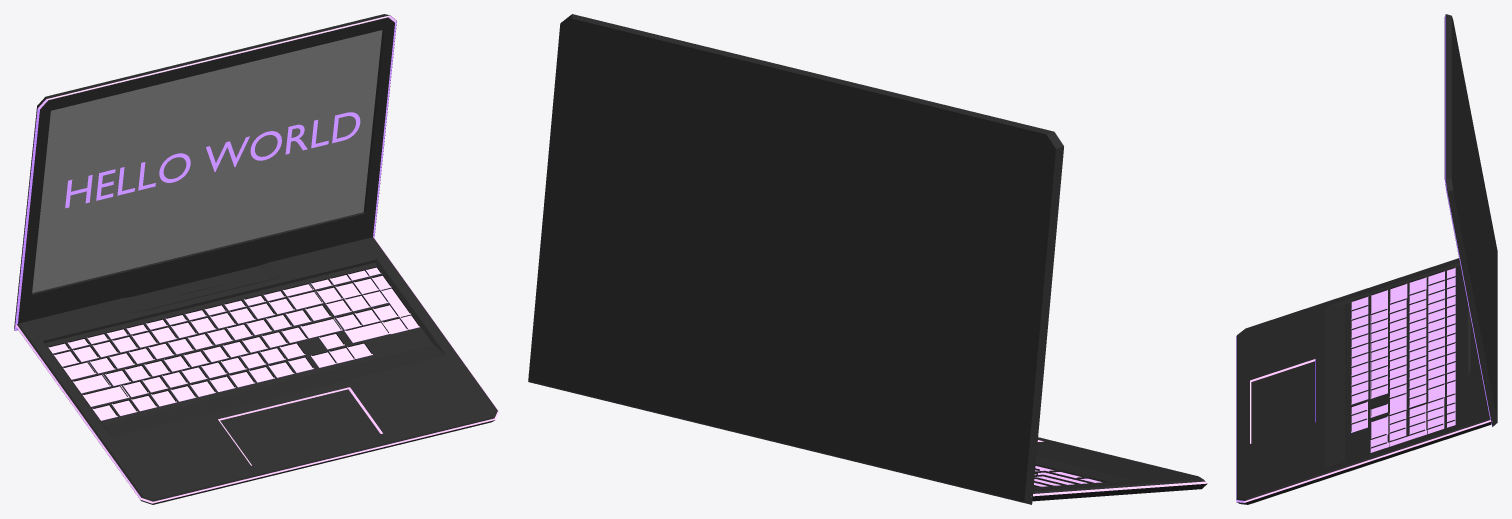
File: Laptop.glb
The picture shows the model from 3 angles, left to right: view 1: azimuth 30°, elevation 25°; view 2: azimuth 150°, elevation 25°; view 3: azimuth 270°, elevation 25°; orthographic projection. The views are drawn at different scales.
Visible parts, largest first — view 1: Cube; view 2: Cube; view 3: Cube.
Boxes of the visible parts, bbox=[...] form: Cube: bbox=[14, 14, 499, 504]; Cube: bbox=[528, 14, 1207, 504]; Cube: bbox=[1236, 14, 1497, 504].
Bounding box in the file's own units: 3.05 × 2.67 × 1.95.
